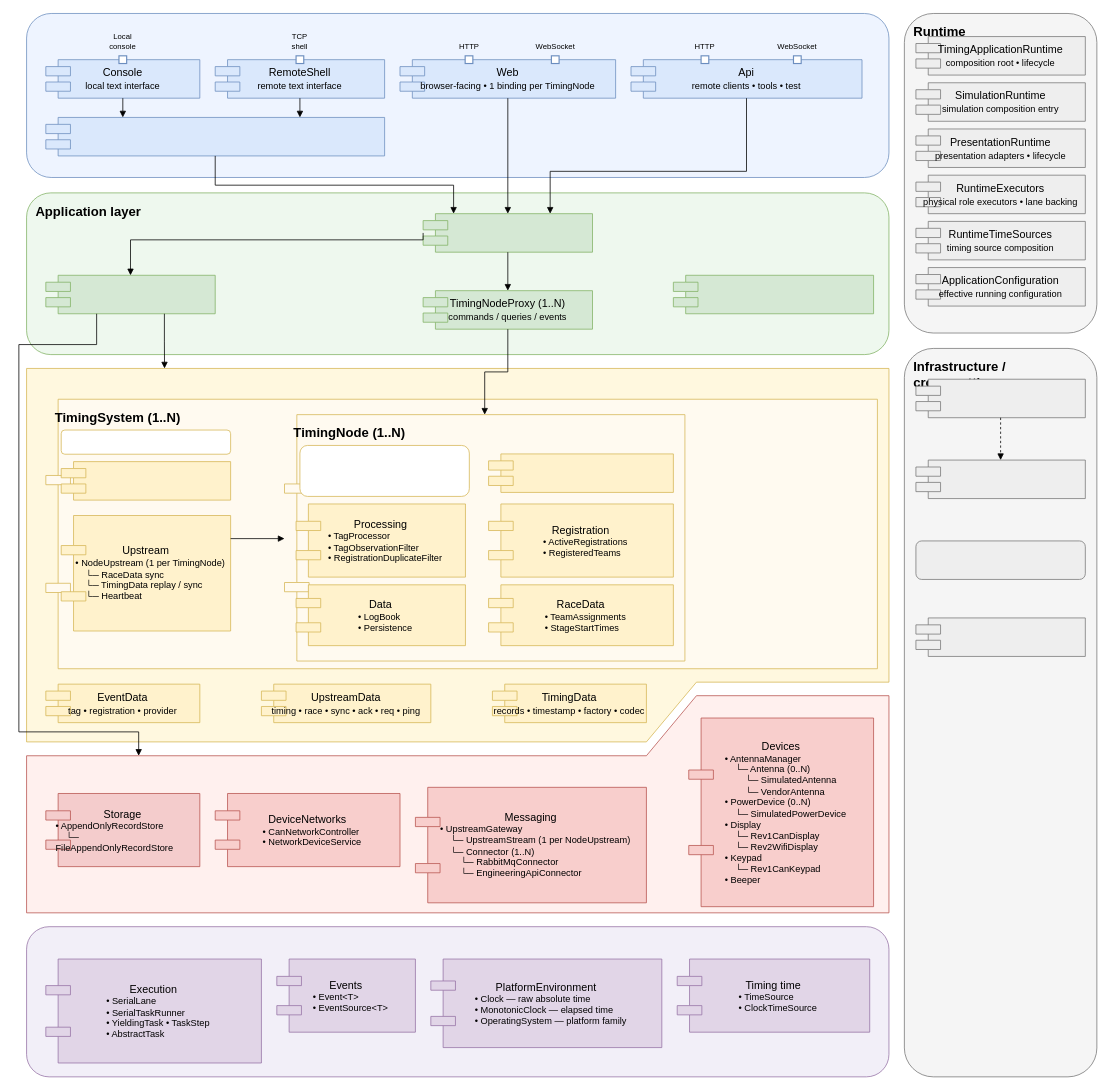
Some shapes in this 1110 by 1090 pixel diagram are drawn without their labels. The box of each missing label's shape, as (x1, y1, x2, y2) in pixels:
- NodeId - LocationId - State: (299, 445, 469, 496)
- SystemId (internal): (60, 429, 231, 454)
Build / version identity: (915, 540, 1085, 579)
Conductor lifecycle / activation order: (673, 275, 874, 314)
Conductor system coordinator: (60, 461, 231, 500)
Configuration<T> values • overrides • events: (915, 617, 1085, 656)
ConfigurationControl query / runtime override use-cases: (45, 275, 215, 314)
Domain layer: (26, 368, 889, 742)
I/O (per TimingSystem): (26, 695, 889, 913)
Logging levels • console • retained file: (915, 459, 1085, 499)
LoggingServer live diagnostics • external TCP: (915, 378, 1085, 418)
NextUpTeams teams expected next: (488, 453, 673, 492)
Platform abstractions / execution environment: (26, 926, 889, 1077)
Presentation / external interfaces: (26, 13, 889, 177)
PresentationGateway application entry / node proxy access: (422, 213, 593, 252)
SharedTerminalHandler command parsing • terminal session behaviour: (45, 117, 385, 156)
